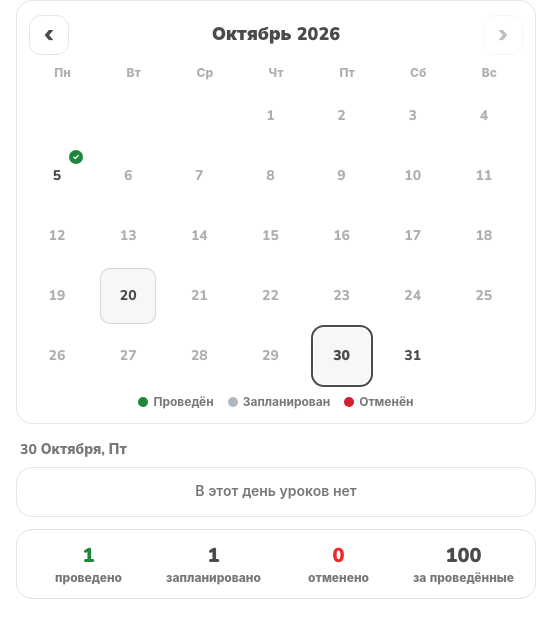
it: LessonCalendar › история: предыдущий месяц — проведённый зелёный с ценой, отменённый красный
Click the button with class "nav" showing "‹": (49, 35) [29,15,69,55]
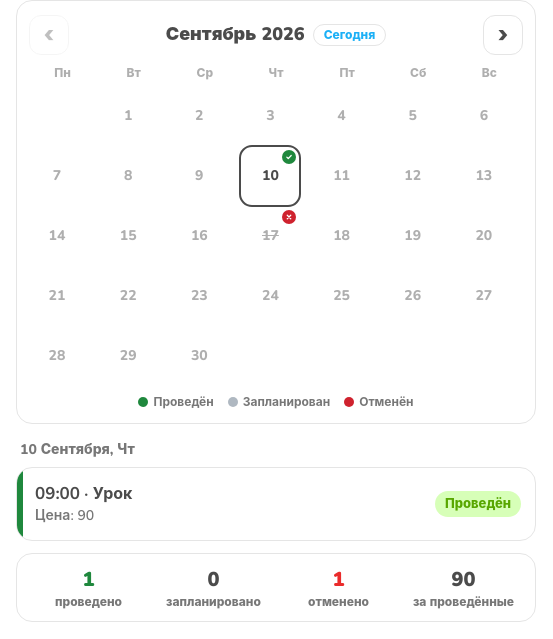
Check: the button with class "done" showing "10" is shown, box [242,148,298,204]
Check: the element with class "sum" shows "90", box [452,566,476,593]
Click the button with class "day" showing "17": (270, 236) [242,208,298,264]
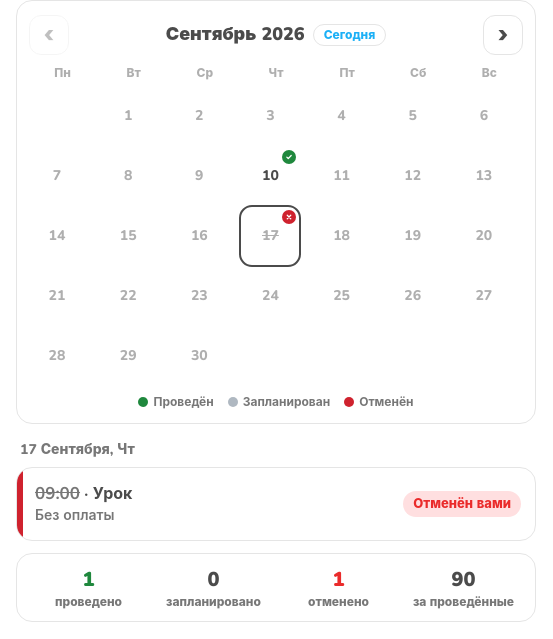
Check: the element showing "09:00 · Урок Без оплаты Отменён вами" is shown, box [16,467,536,541]
